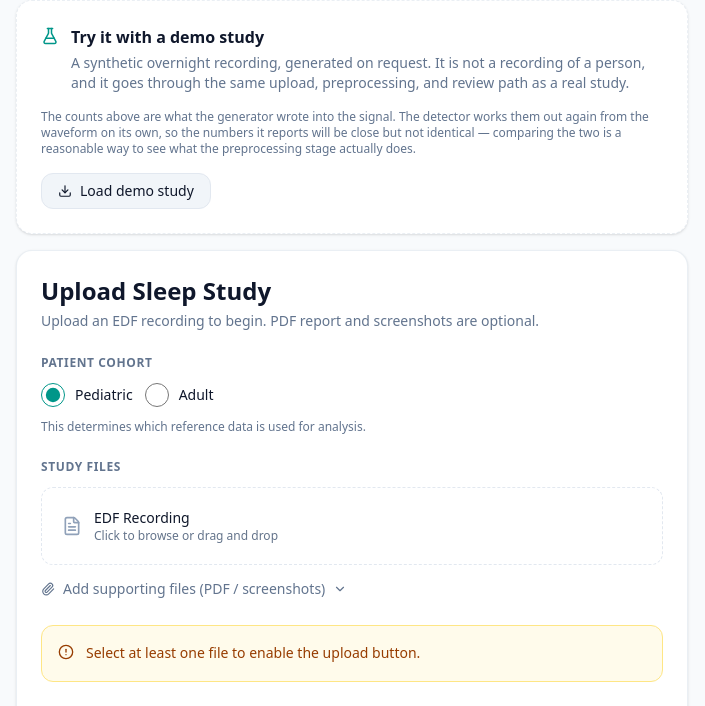
Scenario: <CaseUpload /> › reports a failure to generate the demo study without disabling the form
The width and height of the screenshot is (705, 706).
Click the button "Load demo study" at (126, 191), box [41,173,211,209]
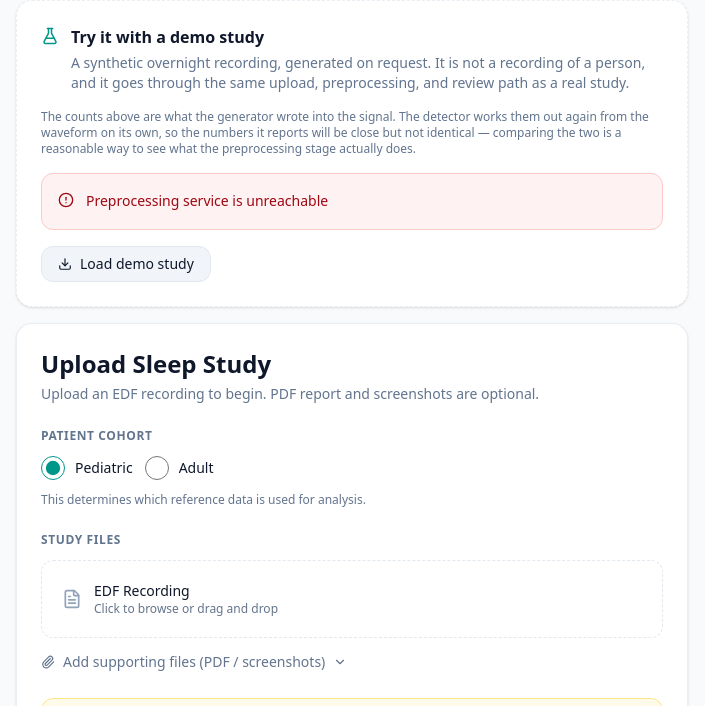
Expected: the button "Load demo study" is enabled, [41,246,211,282]
Expected: the text "Preprocessing service is unreachable" is shown, [86,191,328,210]
